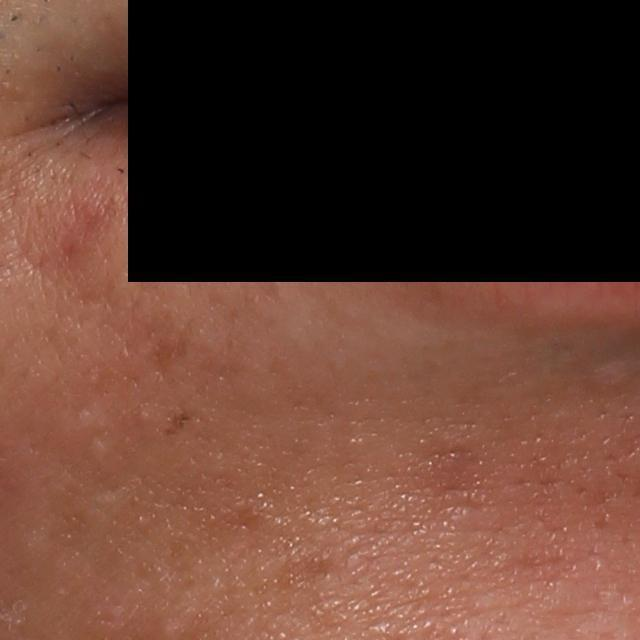hypertrophic_scar: (584, 356, 635, 393)
